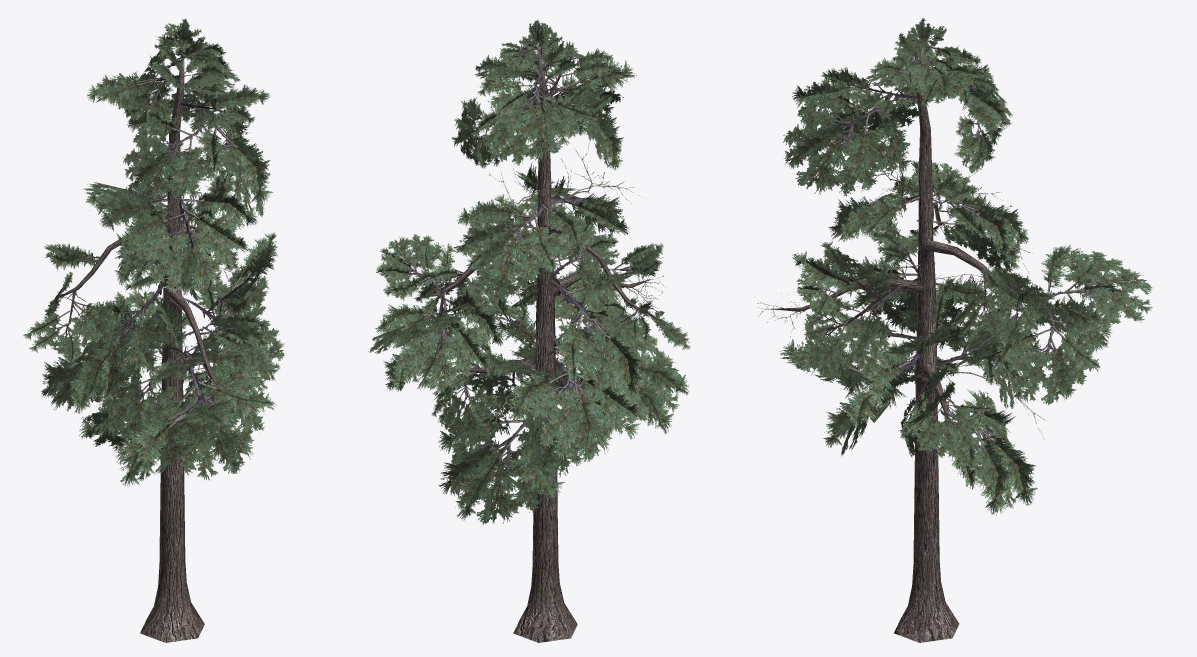
File: ScotsPineTypeB.fbx
The picture shows the model from 3 angles, left to right: view 1: azimuth 30°, elevation 25°; view 2: azimuth 150°, elevation 25°; view 3: azimuth 270°, elevation 25°; orthographic projection.
Visible parts, largest first — view 1: ScotsPine; view 2: ScotsPine; view 3: ScotsPine.
Boxes of the visible parts, box(x1,y1,x2,y2) form: ScotsPine: box(23, 18, 284, 642); ScotsPine: box(368, 20, 690, 642); ScotsPine: box(757, 18, 1152, 642).
Bounding box in the file's own units: 14.55 × 31.12 × 20.07.
2 materials, 2 textured.
